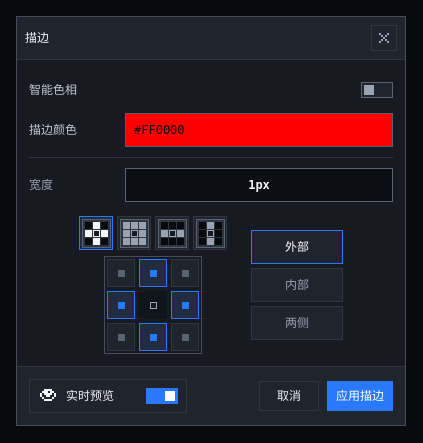
Test: OutlineDialog › switches from the fixed color control to smart hue darkness
Expected: the slider labelled "深色系数" is not shown
Click the checkbox labelled "智能色相".
click(53, 89)  # box [29, 80, 393, 98]
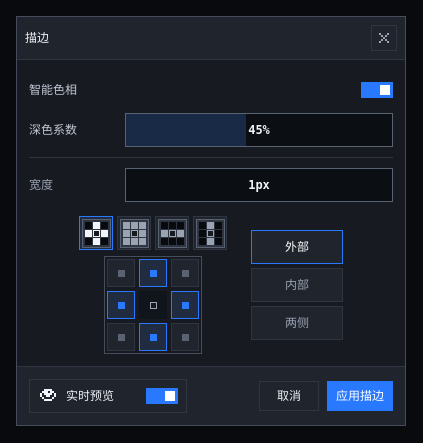
Expected: the element named "深色系数" is shown, [125, 113, 393, 147]
